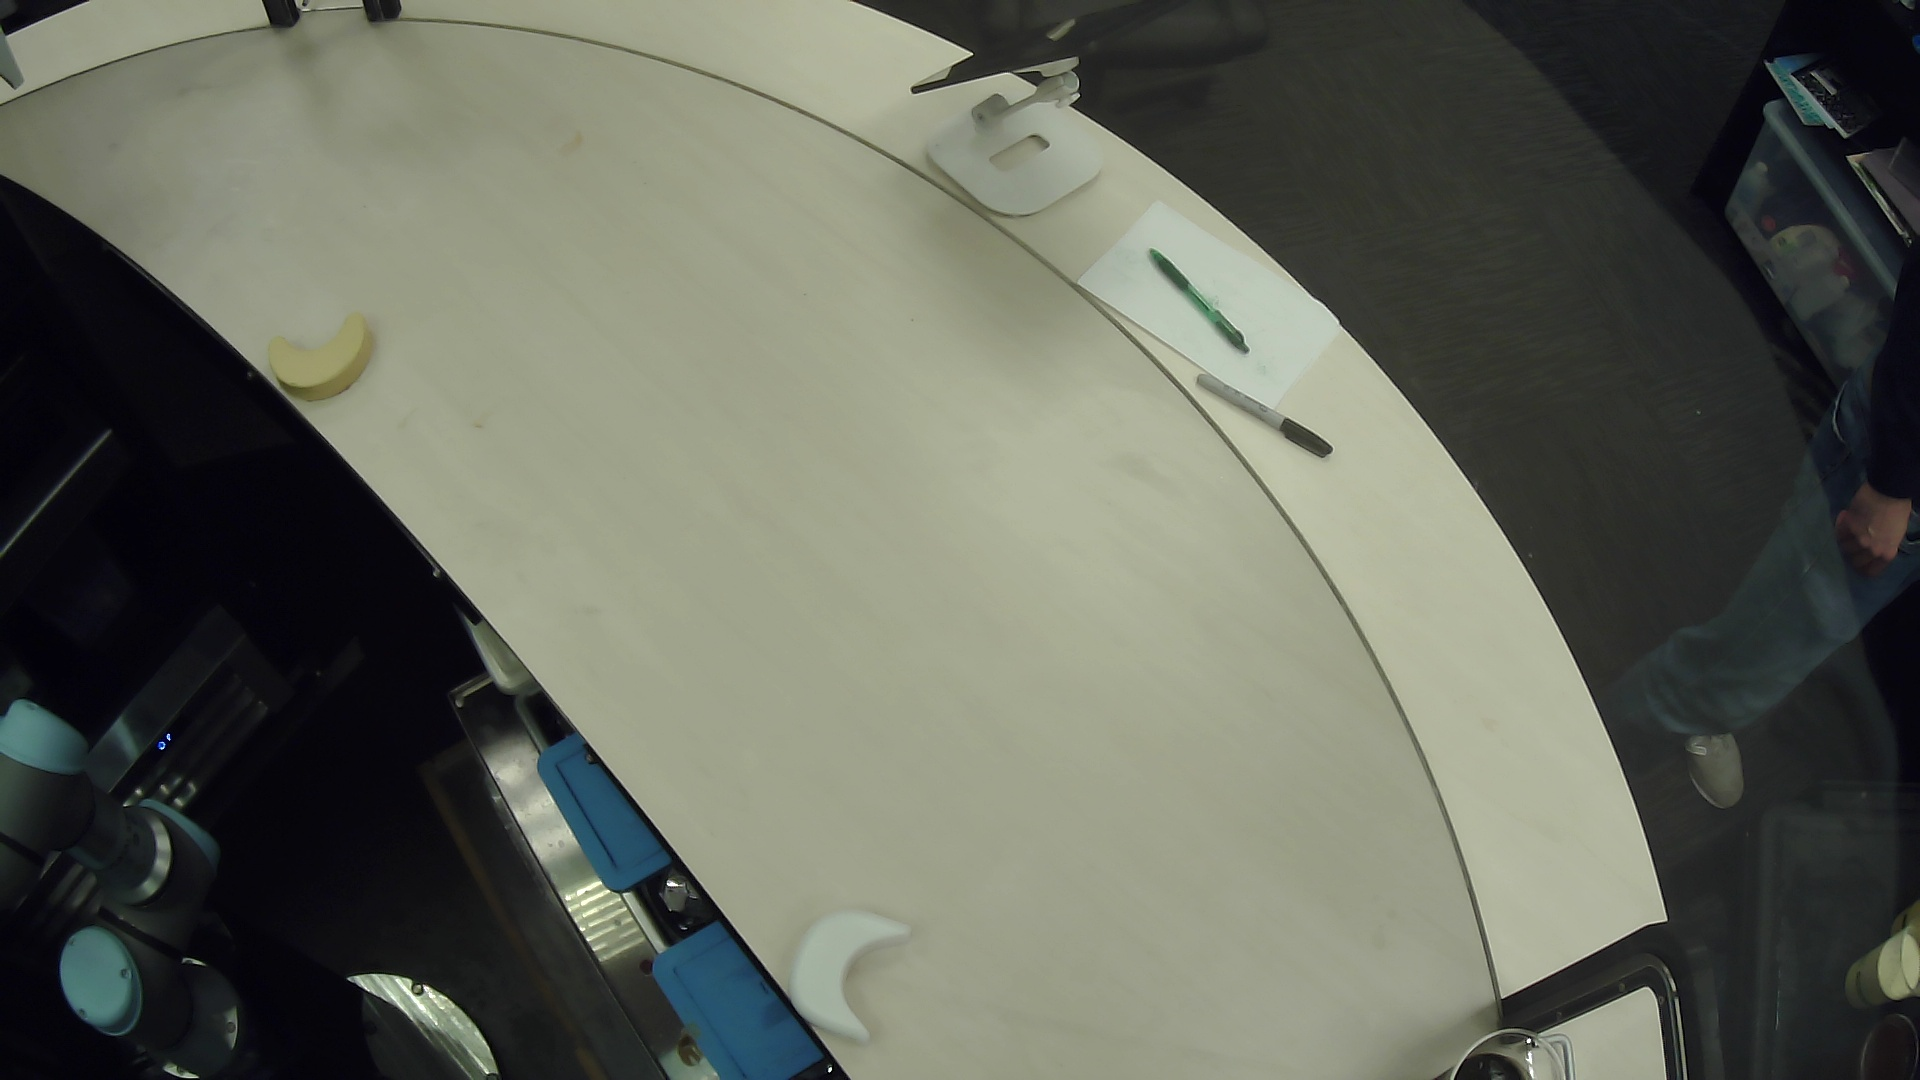Deliver: (781, 886, 931, 1056), (258, 285, 413, 411)
Full_cup: (1389, 1007, 1580, 1080)
